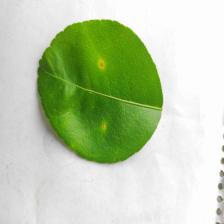canker: (82, 41, 125, 137)
